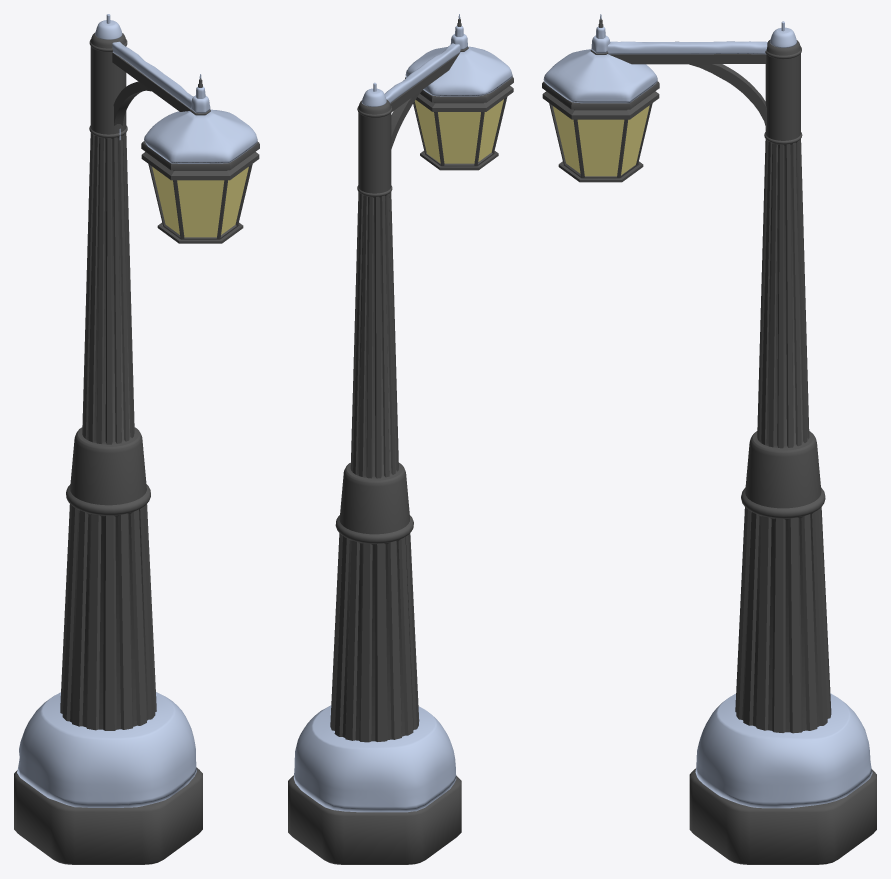
File: streetlight.glb
The picture shows the model from 3 angles, left to right: view 1: azimuth 30°, elevation 25°; view 2: azimuth 150°, elevation 25°; view 3: azimuth 270°, elevation 25°; orthographic projection. The views are drawn at different scales.
Parts seen in each view (by area): view 1: pillar.001, snowHex, hex, lightHead, snowHead, light, snowHeadBar; view 2: pillar.001, snowHex, hex, lightHead, light, snowHead, snowHeadBar; view 3: pillar.001, snowHex, hex, lightHead, snowHead, light, snowHeadBar.
Part boxes in pixels (<box>): pillar.001: <box>60,32,156,730</box>; snowHex: <box>17,692,196,807</box>; hex: <box>14,768,202,864</box>; lightHead: <box>112,52,259,243</box>; snowHead: <box>144,109,257,163</box>; light: <box>152,166,248,237</box>; snowHeadBar: <box>112,41,193,109</box>; pillar.001: <box>330,99,419,742</box>; snowHex: <box>293,705,456,812</box>; hex: <box>288,775,461,864</box>; lightHead: <box>390,19,513,170</box>; light: <box>414,99,503,163</box>; snowHead: <box>405,46,512,96</box>; snowHeadBar: <box>384,43,460,103</box>; pillar.001: <box>735,39,831,733</box>; snowHex: <box>695,693,872,808</box>; hex: <box>689,768,876,864</box>; lightHead: <box>542,19,766,182</box>; snowHead: <box>543,49,657,103</box>; light: <box>553,105,649,176</box>; snowHeadBar: <box>607,41,767,54</box>.
Size of the model in its own units: 0.1757 by 0.9328 by 0.346.
